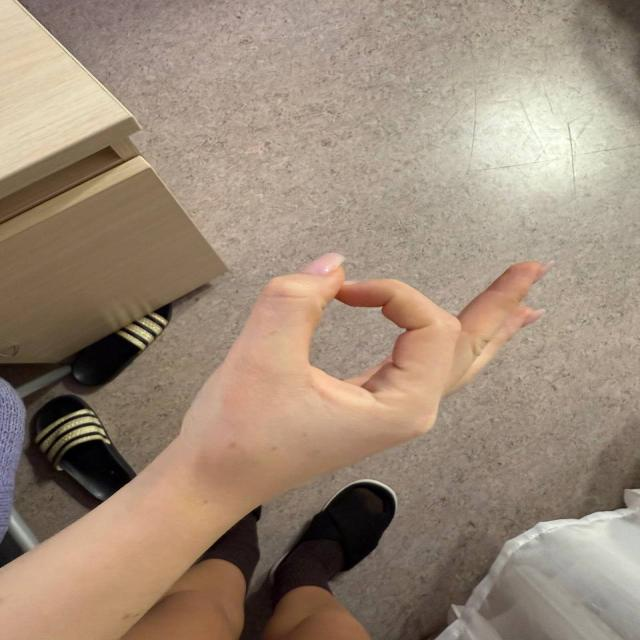o: (200, 193, 587, 435)
